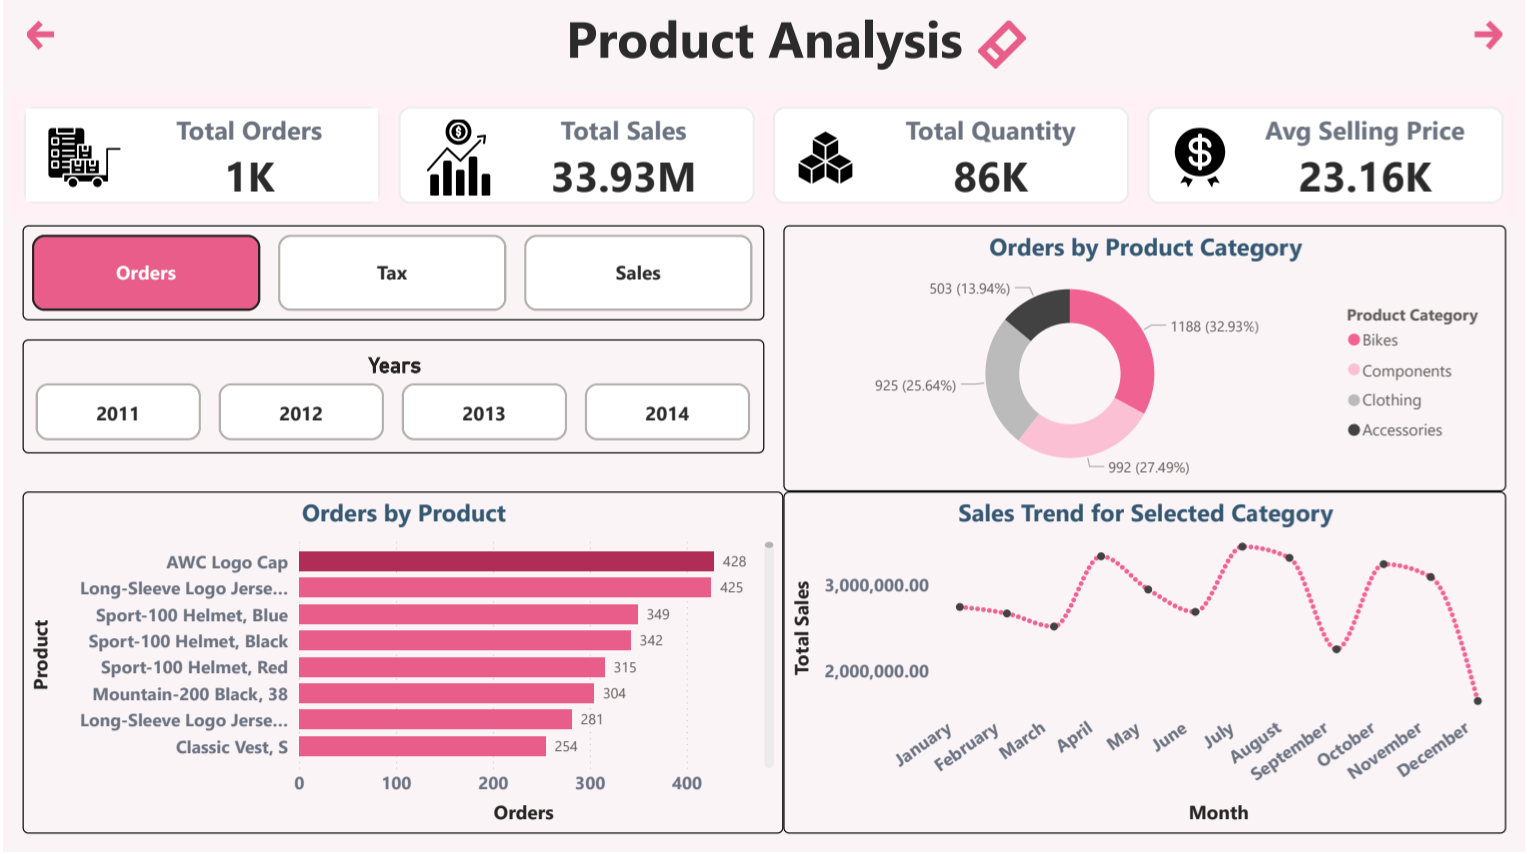

This screenshot's page, from the dashboard's own definition file:
{"tool":"powerbi","page":{"name":"Product Analysis","canvas":[1280,720],"ordinal":4},"visuals":[{"type":"cardVisual","fields":{"Data":["_Measures.Total_orders","_Measures.Totals_sales","_Measures.Total_quantity","_Measures.Avg_Selling_Price"]},"box":[0,75.4,1280.3,115.8],"z":0},{"type":"textbox","box":[464,0,352,80],"z":1000},{"type":"clusteredBarChart","fields":{"Y":["_Measures.Totals_sales"],"Category":["Dim_Product.Product"]},"box":[16,416,640,288],"z":2000},{"type":"donutChart","fields":{"Y":["_Measures.Totals_sales"],"Category":["Dim_Product.ProductCategory"]},"box":[656,192,608,224],"z":3000},{"type":"advancedSlicerVisual","fields":{"Values":["Parameter.Parameter"]},"box":[16,192,624,80],"z":4000},{"type":"lineChart","title":"Sales Trend for Selected Category","fields":{"Y":["_Measures.Totals_sales"],"Category":["calender_table.Month Name"]},"box":[656,416,608,288],"z":5000},{"type":"advancedSlicerVisual","title":"Years","fields":{"Values":["calender_table.Year"]},"box":[16,288,624,96],"z":6000},{"type":"actionButton","box":[1232,16,32,32],"z":7000},{"type":"actionButton","box":[16,16,112,32],"z":8000},{"type":"actionButton","box":[816,16,64,48],"z":9000}]}

Visuals, with their boxes in screenshot pixels (x1, y1, x2, y2), scaled from the page's 1280x720 canvas onto the 1527x854 screenshot:
cardVisual - _Measures.Total_orders x _Measures.Totals_sales: locate(0, 89, 1526, 227)
textbox: locate(554, 0, 973, 95)
clusteredBarChart - _Measures.Totals_sales x Dim_Product.Product: locate(19, 493, 783, 835)
donutChart - _Measures.Totals_sales x Dim_Product.ProductCategory: locate(783, 228, 1508, 493)
advancedSlicerVisual - Parameter.Parameter: locate(19, 228, 764, 323)
"Sales Trend for Selected Category" lineChart: locate(783, 493, 1508, 835)
"Years" advancedSlicerVisual: locate(19, 342, 764, 455)
actionButton: locate(1470, 19, 1508, 57)
actionButton: locate(19, 19, 153, 57)
actionButton: locate(973, 19, 1050, 76)
